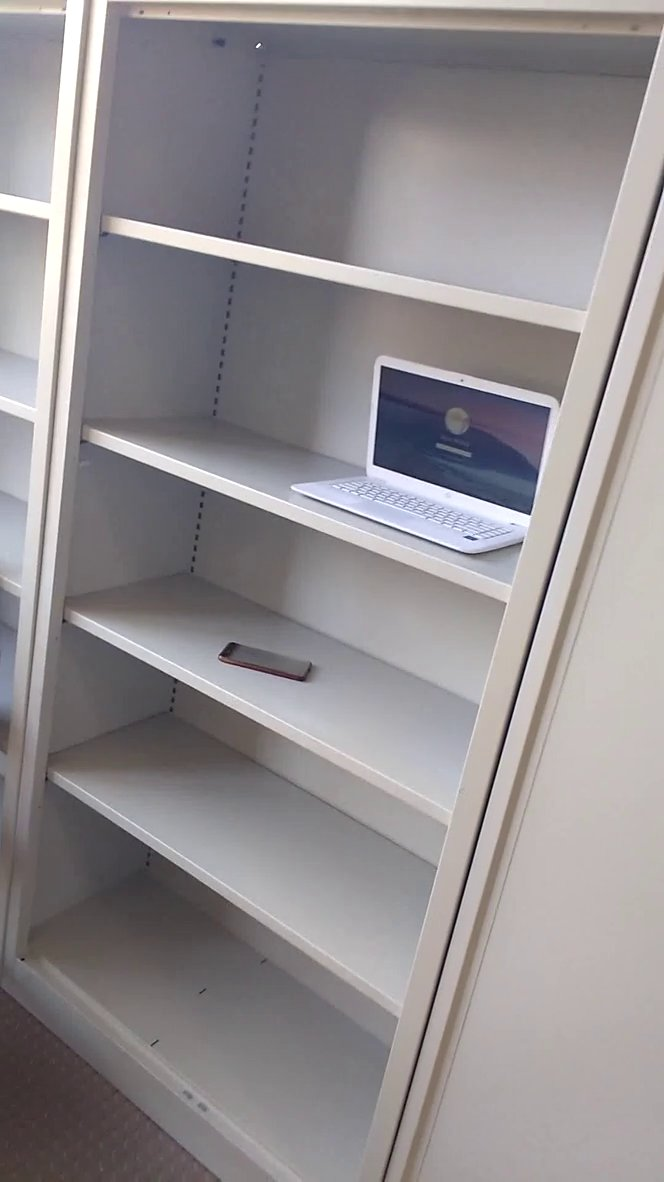laptop: (282, 336, 588, 576)
phone: (213, 633, 320, 696)
